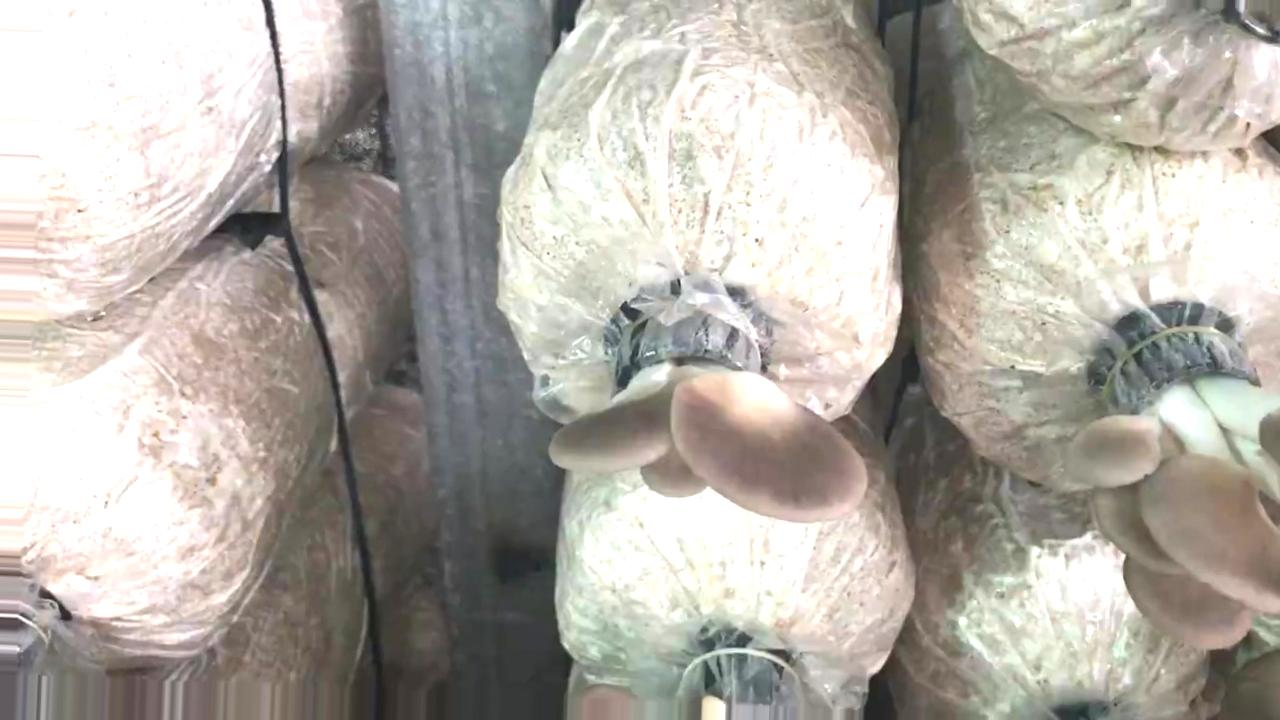nam: (1067, 312, 1280, 653), (545, 302, 867, 527)
